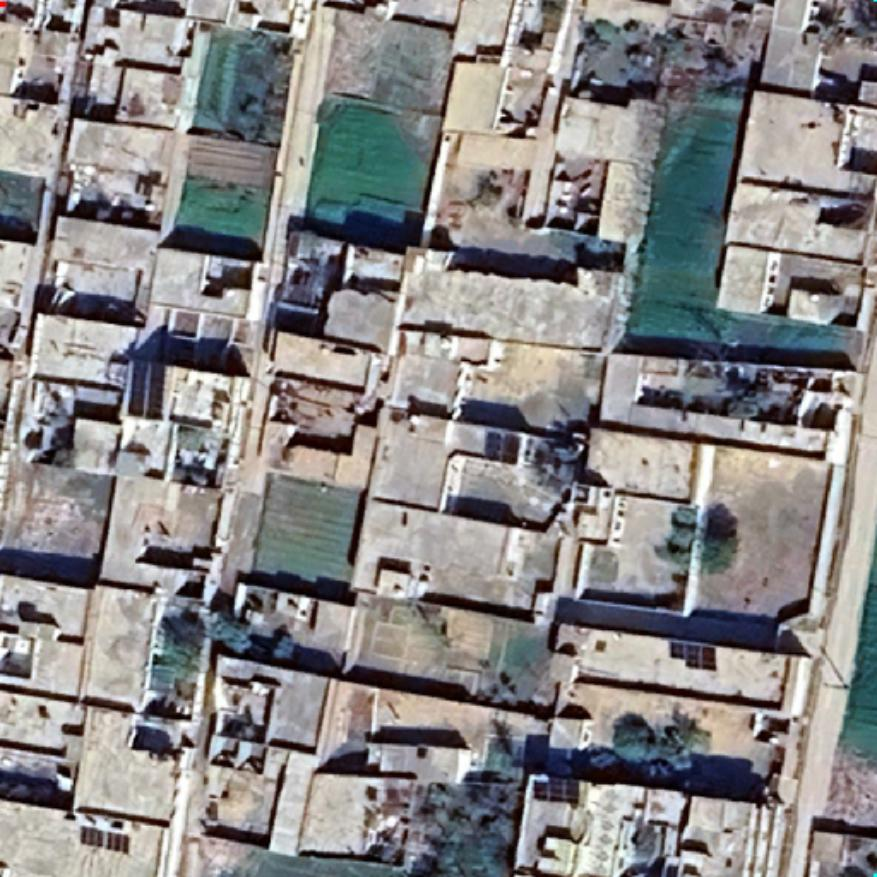Solarpanel: (124, 356, 170, 422), (76, 822, 134, 858), (530, 771, 584, 809), (667, 636, 721, 674), (480, 427, 524, 469)
